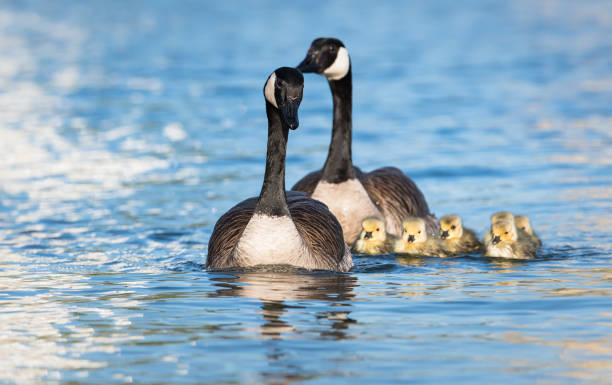goose: (206, 66, 355, 278), (295, 37, 437, 236)
